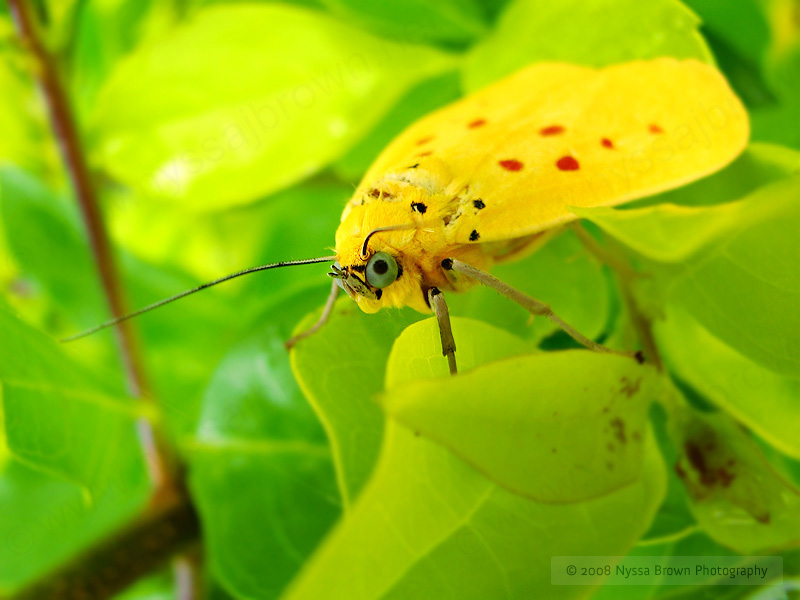Agape chloropyga: (58, 53, 753, 381)
moth: (60, 55, 755, 383)
